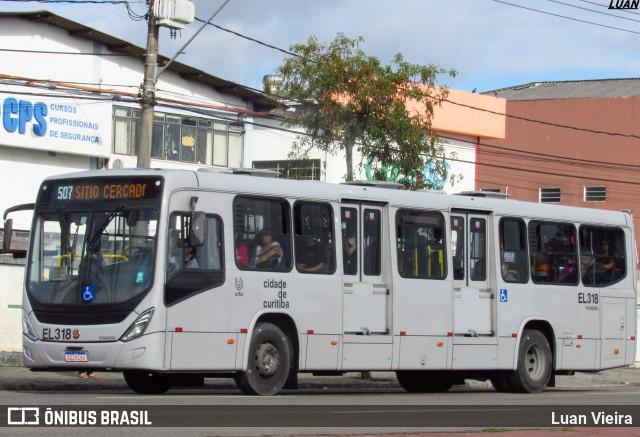SITIO CERCADO: (72, 181, 150, 202)
